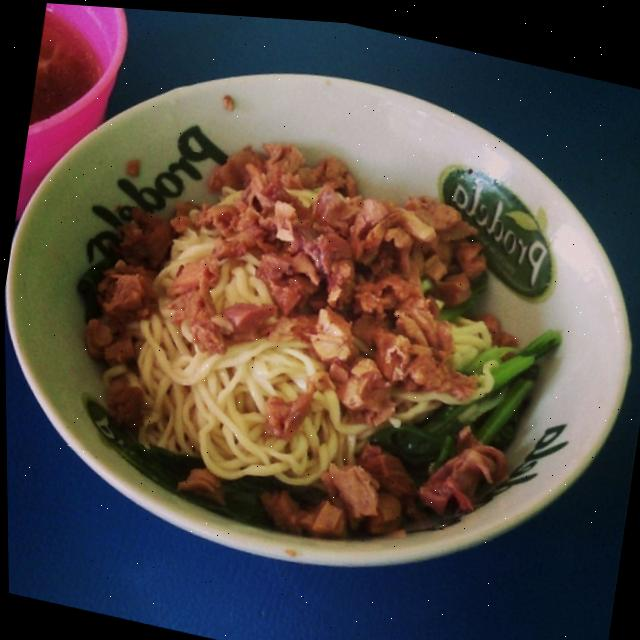面条主食: (36, 44, 610, 593)
